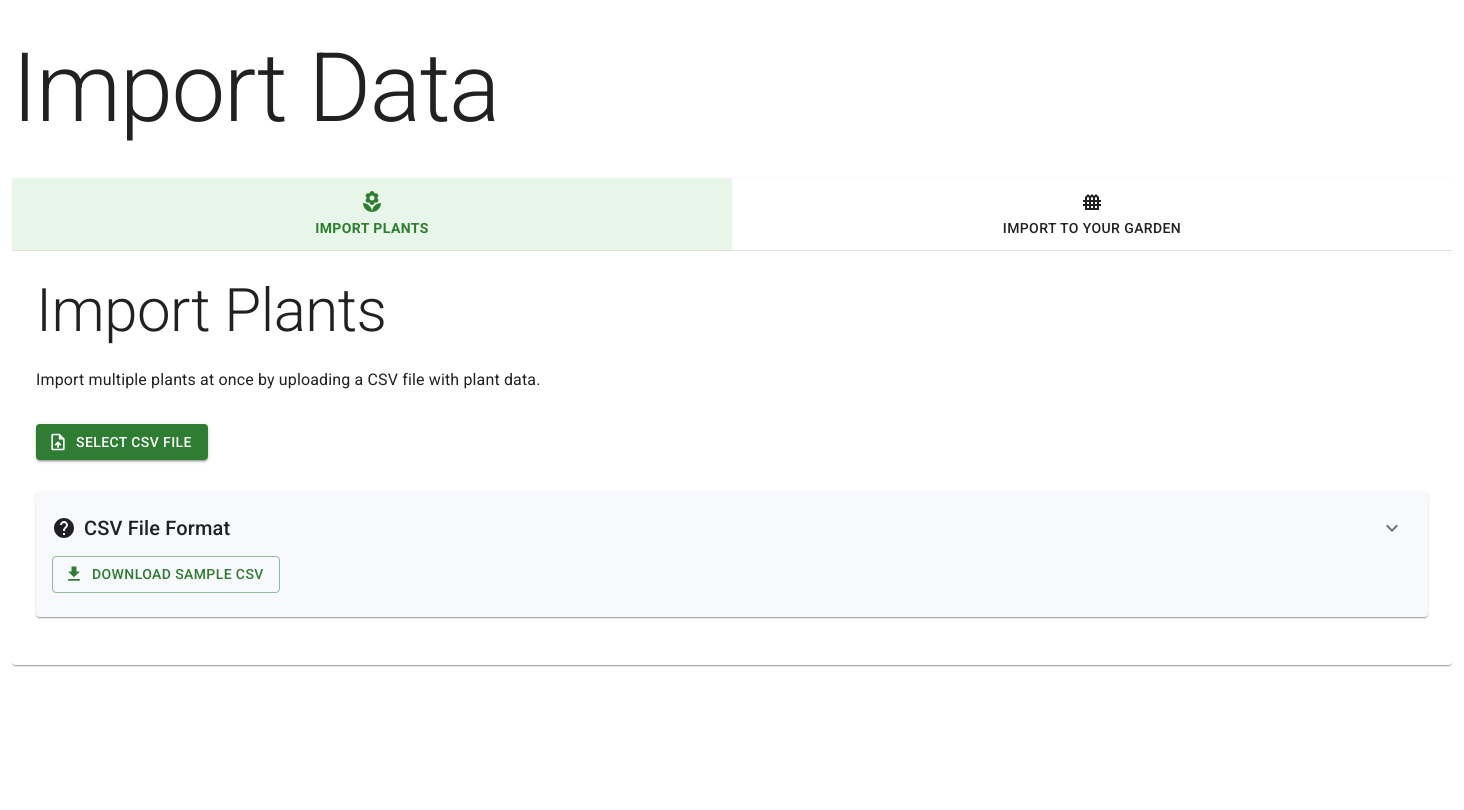
Import component › can switch between tabs
Expected: the text "Import multiple plants at once by uploading a CSV file with plant data." is shown, [36,370,541,389]
Switch to the Plantings tab
Click the tab "Import to Your Garden": (1092, 214) [732,178,1452,250]
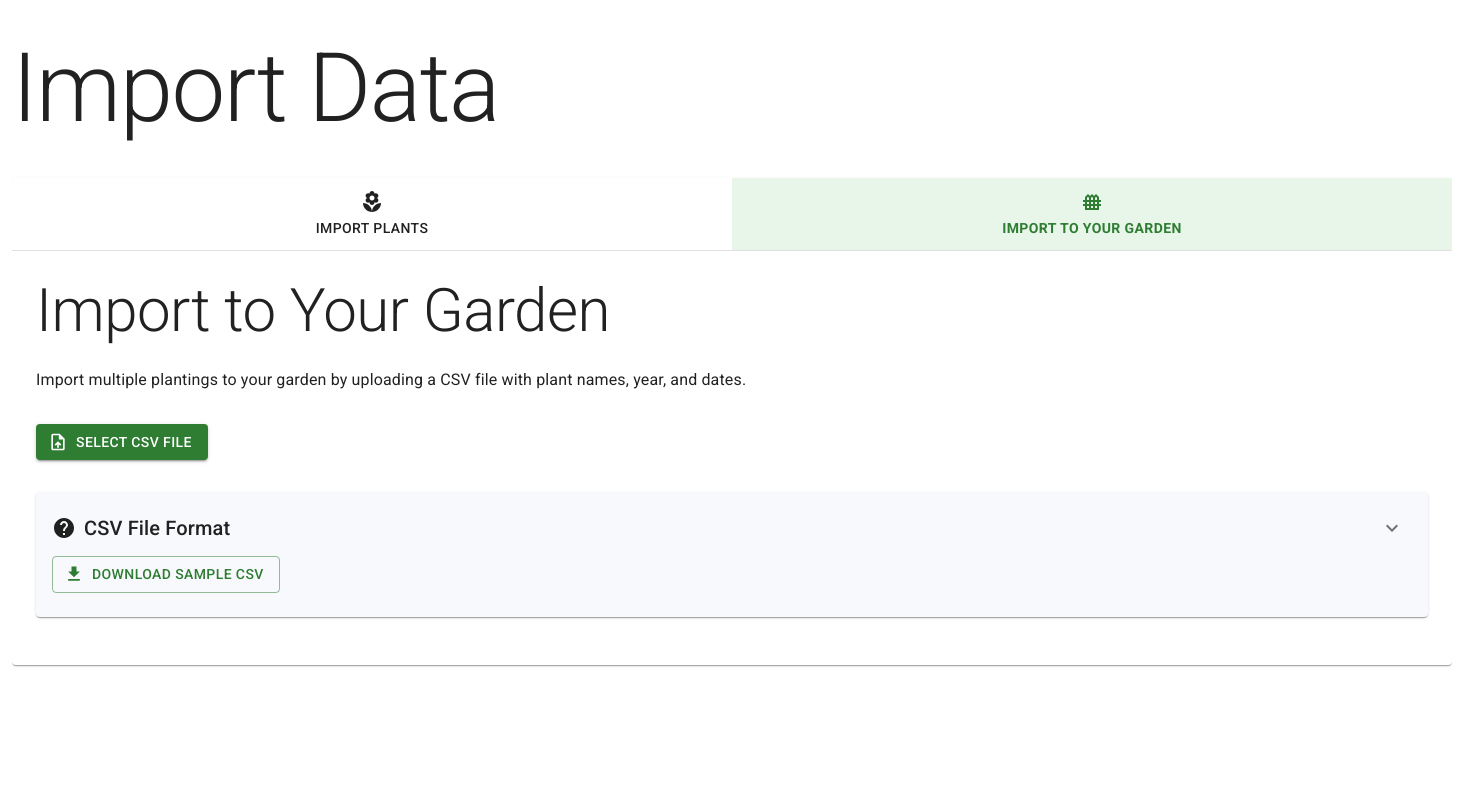
Expected: the text "Import multiple plantings to your garden by uploading a CSV file with plant names, year, and dates." is shown, [36,370,746,389]
